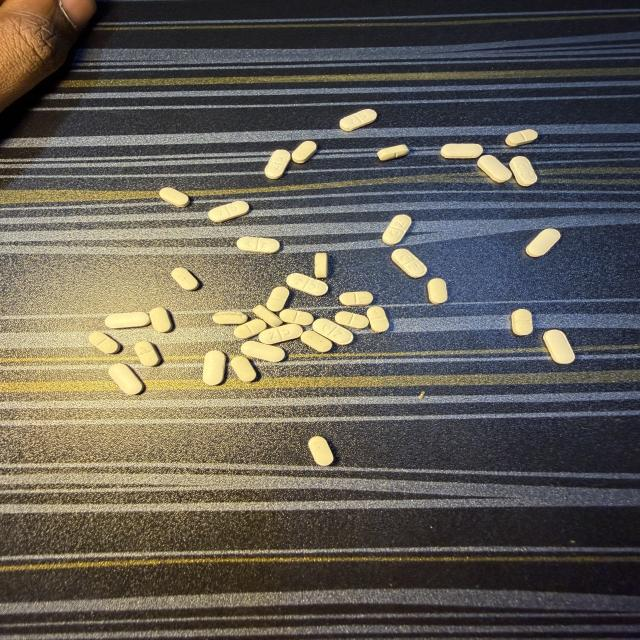pill: (109, 363, 144, 395), (543, 330, 575, 364), (313, 319, 353, 345), (392, 249, 427, 278), (526, 229, 560, 257), (287, 273, 328, 296), (242, 341, 285, 362), (382, 215, 412, 245), (478, 155, 511, 182), (259, 324, 302, 344), (209, 201, 249, 222), (340, 109, 377, 131), (203, 350, 226, 385), (510, 157, 537, 186), (265, 150, 291, 179), (308, 437, 333, 466), (105, 312, 150, 328), (89, 332, 121, 354), (230, 356, 257, 382), (237, 237, 280, 253), (134, 341, 161, 366), (301, 331, 332, 352), (234, 319, 266, 339), (253, 305, 282, 327), (505, 129, 538, 147), (172, 268, 199, 290), (511, 309, 533, 336), (441, 144, 483, 158), (149, 308, 173, 332), (367, 307, 389, 333), (159, 188, 189, 207), (266, 287, 289, 311), (292, 141, 317, 163), (280, 309, 313, 325), (335, 312, 368, 328), (427, 278, 447, 304), (378, 145, 409, 161), (340, 292, 373, 306), (212, 312, 247, 324), (314, 252, 328, 278), (418, 391, 425, 399)
